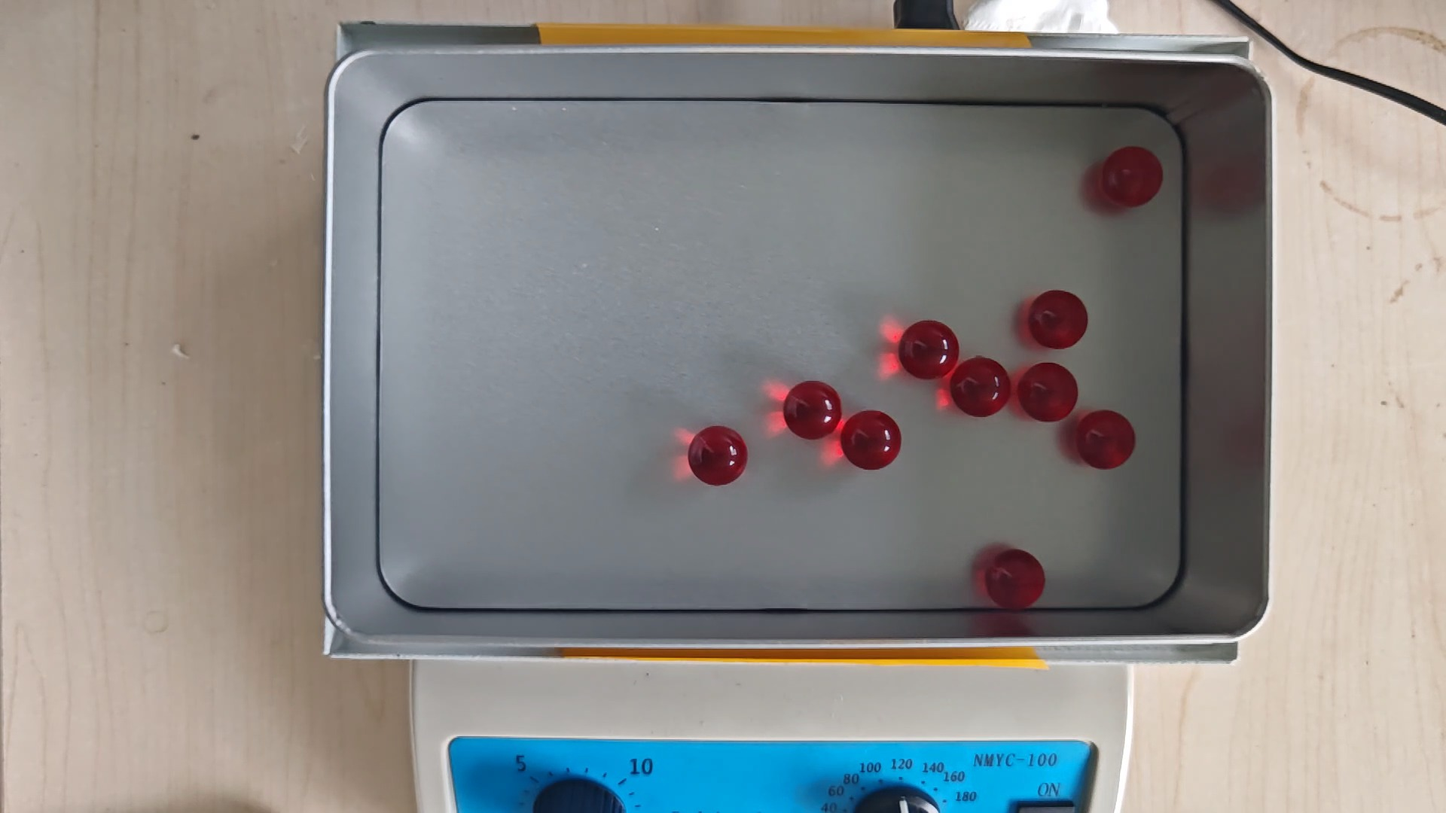ball: (688, 425, 749, 488), (985, 549, 1046, 612), (1076, 409, 1136, 471), (951, 357, 1011, 418), (842, 410, 902, 471), (1102, 146, 1163, 206), (1018, 362, 1079, 422), (898, 320, 958, 381), (1028, 289, 1088, 349), (784, 380, 843, 441)
container: (378, 100, 1184, 610)
